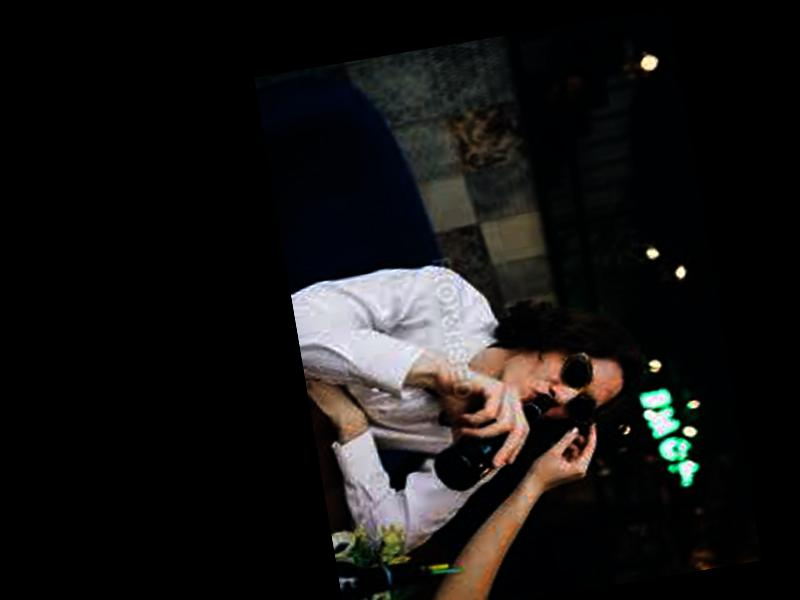Beer: (422, 393, 563, 497)
